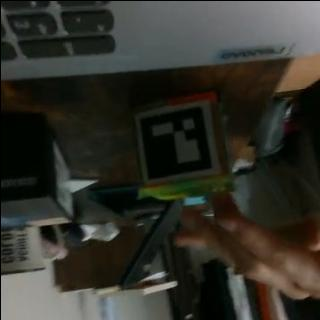armor: (135, 102, 219, 186)
robot: (134, 92, 228, 200)
